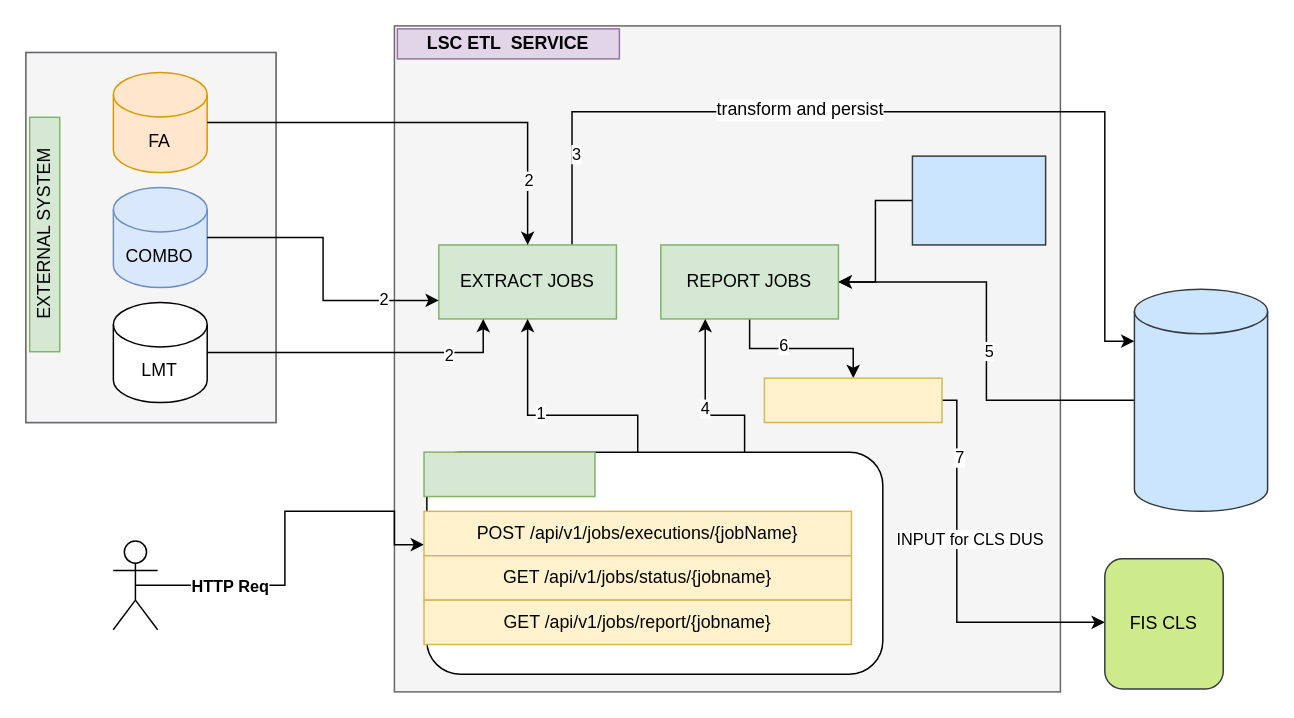
Image size: 1294x718. Some labels were removed from this diagram. Here are the shapes that lost their labels. From the top down, the box of each, then its label:
(911, 155, 1046, 245): CLS TEMPL FILES
(763, 377, 942, 423): Generated XL sheets
(1133, 288, 1268, 511): ETL DB
(423, 451, 595, 497): Mgmt API
(112, 539, 158, 630): Actor
